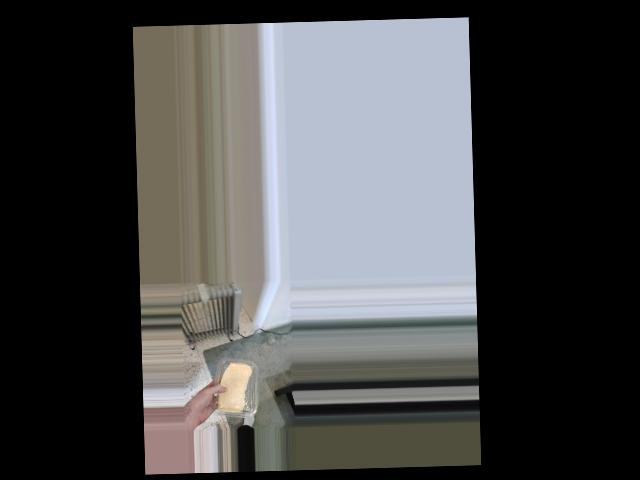cheese: (211, 355, 258, 417)
